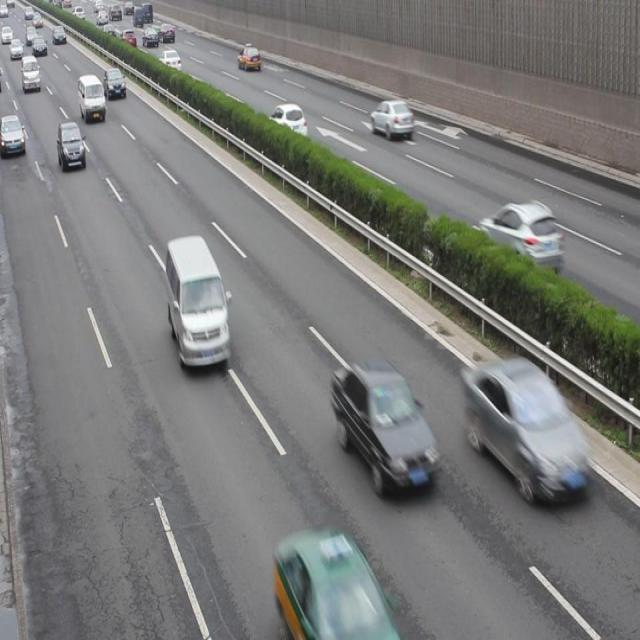car: (460, 354, 593, 508), (330, 358, 442, 500), (274, 531, 395, 640), (478, 197, 562, 278), (265, 101, 307, 146), (369, 101, 414, 140), (57, 122, 86, 172), (1, 114, 27, 158), (103, 68, 126, 100), (156, 49, 181, 74), (238, 44, 260, 71), (156, 22, 176, 43), (142, 28, 159, 47), (122, 29, 137, 49)
truck: (166, 237, 230, 371), (79, 75, 106, 122), (21, 55, 41, 93)
